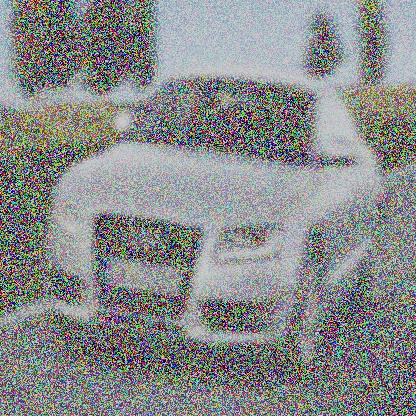Vehicle: (42, 66, 385, 379)
